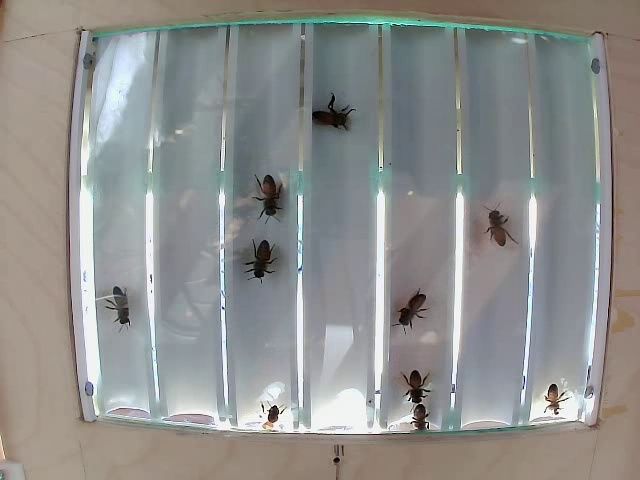bee: (96, 273, 138, 338), (314, 88, 354, 139), (383, 286, 424, 334), (243, 232, 275, 284), (478, 206, 510, 249), (254, 168, 284, 213), (538, 375, 568, 419), (410, 357, 441, 394), (410, 399, 439, 432)
